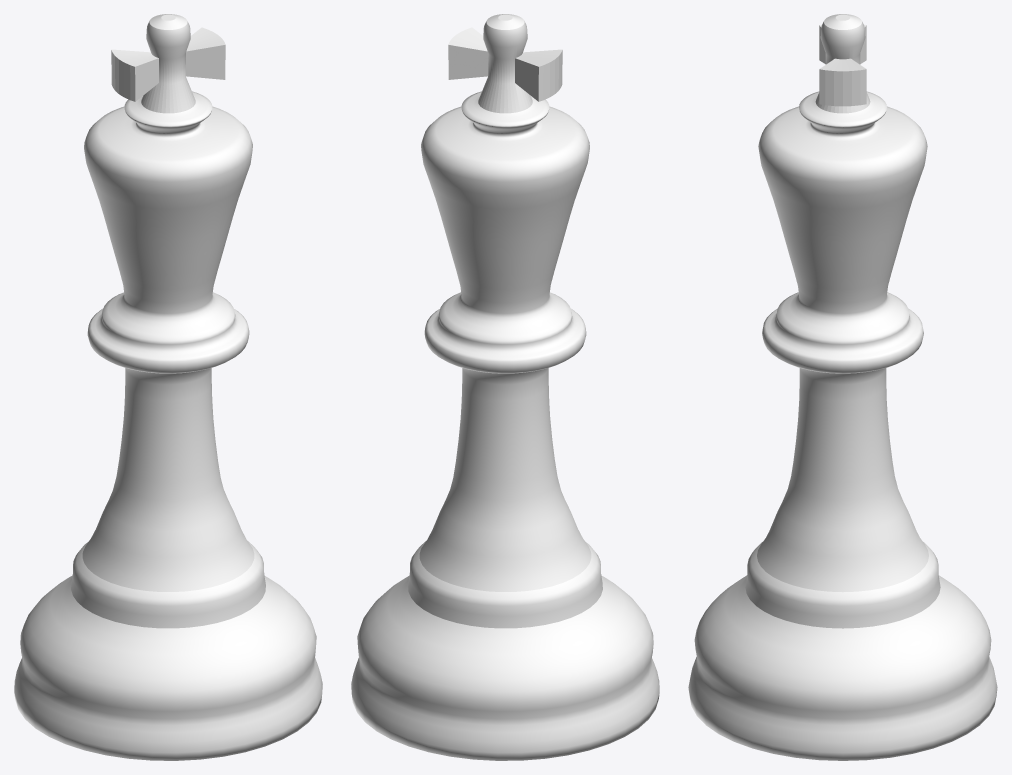
The model's file is Rey_Blanco.glb.
3 views of the same model, side by side, from view 1: azimuth 30°, elevation 25°; view 2: azimuth 150°, elevation 25°; view 3: azimuth 270°, elevation 25° (orthographic).
Parts seen in each view (by area): view 1: rey_b; view 2: rey_b; view 3: rey_b.
Part boxes in pixels (x1=…): rey_b: x1=14, y1=14, x2=322, y2=760; rey_b: x1=351, y1=14, x2=659, y2=760; rey_b: x1=688, y1=14, x2=997, y2=760.
Size of the model in its own units: 0.8213 by 2.01 by 0.8213.
Materials: 1 (1 with a texture image).
